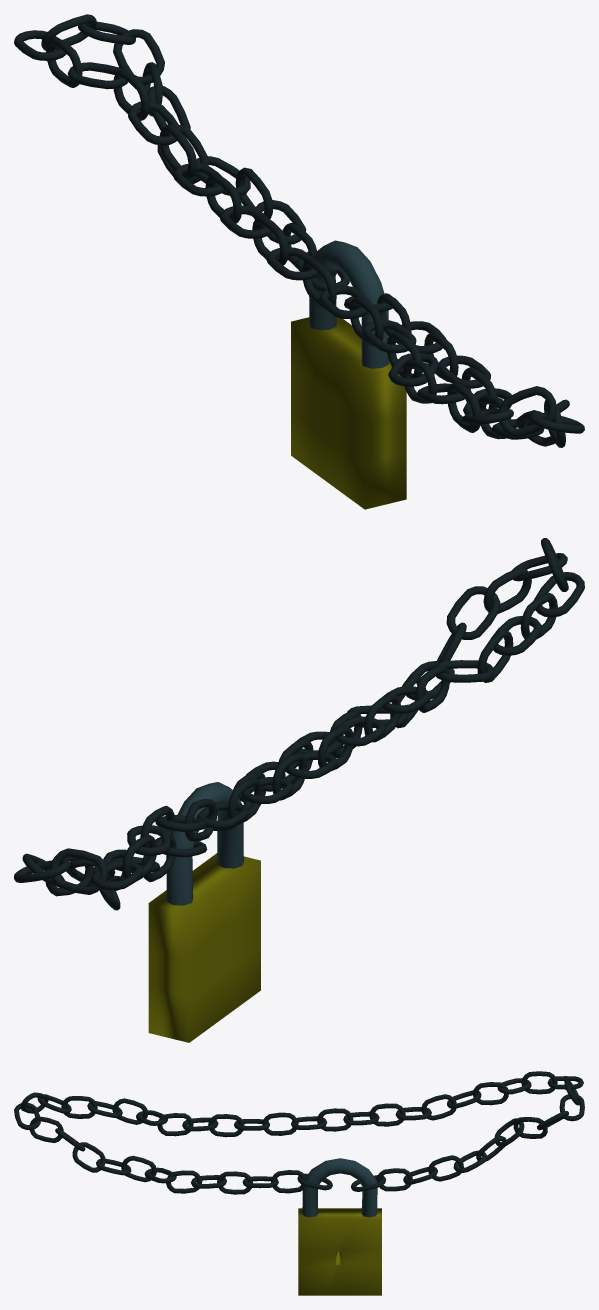
The model's file is Lock.fbx.
The picture shows the model from 3 angles, top to bottom: view 1: azimuth 30°, elevation 25°; view 2: azimuth 150°, elevation 25°; view 3: azimuth 270°, elevation 25°; orthographic projection. The views are drawn at different scales.
Visible parts, largest first — view 1: Cube.001, Torus.049, Torus.025, Torus.016, Torus.030, Torus.014, Torus.017, Torus.015, Torus.013, Torus.018, Torus.005, Torus.003 (+19 smaller); view 2: Cube.001, Torus.049, Torus.011, Torus.028, Torus.027, Torus.024, Torus.020, Torus.022, Torus.021, Torus.012, Torus.019, Torus.023 (+14 smaller); view 3: Cube.001, Torus.049, Torus.005, Torus.041, Torus.003, Torus.045, Torus.029, Torus.035, Torus.013, Torus.043, Torus.017, Torus.047 (+27 smaller).
Boxes of the visible parts, x1,y1,x2,y2 form: Cube.001: (291, 317, 406, 509); Torus.049: (309, 240, 388, 368); Torus.025: (498, 386, 556, 437); Torus.016: (128, 101, 181, 145); Torus.030: (113, 29, 164, 85); Torus.014: (67, 62, 127, 89); Torus.017: (159, 124, 196, 179); Torus.015: (113, 69, 149, 120); Torus.013: (46, 37, 82, 87); Torus.018: (362, 320, 416, 353); Torus.005: (252, 215, 288, 265); Torus.003: (205, 173, 241, 223); Cube.001: (148, 853, 260, 1042); Torus.049: (166, 782, 243, 905); Torus.011: (50, 848, 107, 894); Torus.028: (446, 586, 500, 639); Torus.027: (483, 568, 531, 613); Torus.024: (533, 572, 584, 617); Torus.020: (434, 660, 494, 682); Torus.022: (490, 616, 542, 655); Torus.021: (477, 629, 513, 682); Torus.012: (91, 860, 143, 890); Torus.019: (415, 664, 449, 712); Torus.023: (520, 592, 557, 639); Cube.001: (298, 1208, 381, 1295); Torus.049: (302, 1158, 377, 1217); Torus.005: (317, 1108, 353, 1131); Torus.041: (217, 1171, 252, 1194); Torus.003: (369, 1103, 405, 1126); Torus.045: (166, 1170, 202, 1193); Torus.029: (72, 1142, 105, 1172); Torus.035: (376, 1168, 412, 1191); Torus.013: (521, 1071, 557, 1094); Torus.043: (428, 1155, 463, 1181); Torus.017: (421, 1094, 456, 1120); Torus.047: (121, 1155, 156, 1182).
Size of the model in its own units: 68.43 by 142 by 389.
